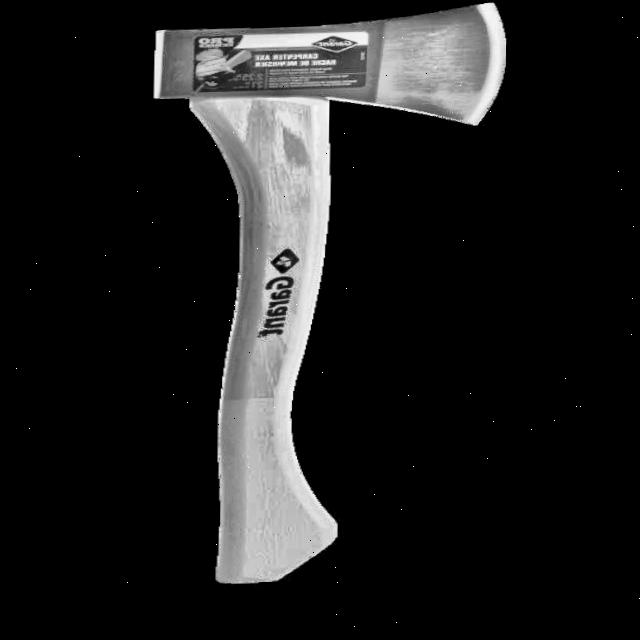kapak: (139, 0, 530, 605)
